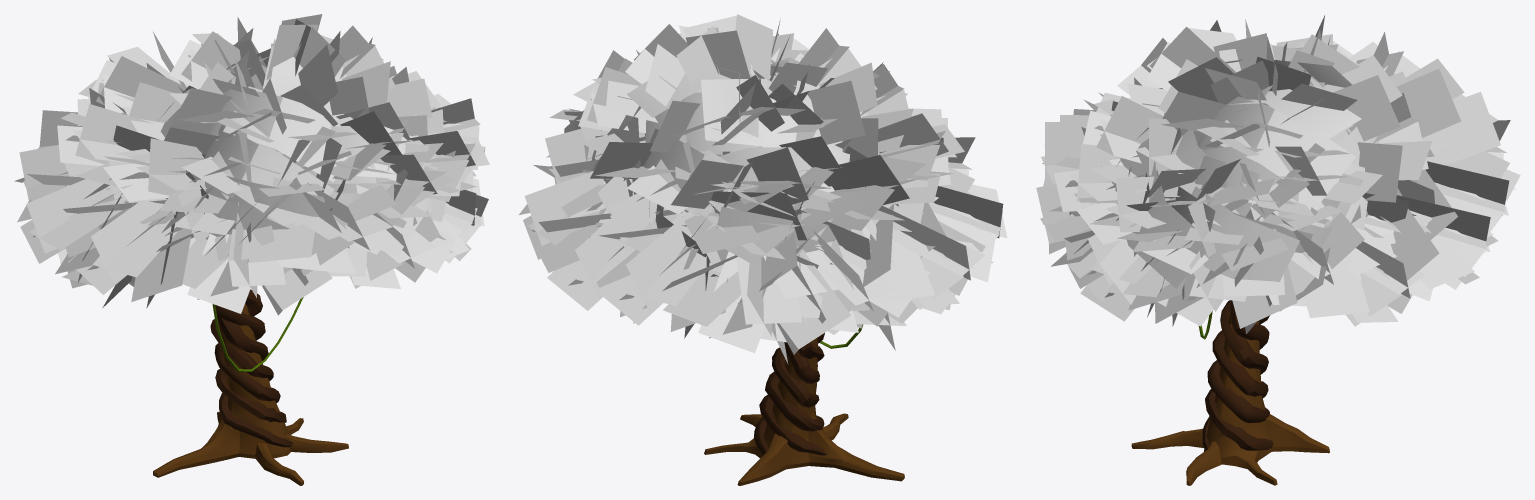
The model's file is MF_Dschungletree_2.FBX.
The picture shows the model from 3 angles, left to right: view 1: azimuth 30°, elevation 25°; view 2: azimuth 150°, elevation 25°; view 3: azimuth 270°, elevation 25°; orthographic projection. The views are drawn at different scales.
Visible parts, largest first — view 1: Leaves, Dschungletree_2, Vine; view 2: Leaves, Dschungletree_2; view 3: Leaves, Dschungletree_2.
Boxes of the visible parts, x1,y1,x2,y2 form: Leaves: (14, 14, 489, 315); Dschungletree_2: (153, 289, 348, 485); Vine: (212, 297, 303, 371); Leaves: (518, 14, 1007, 364); Dschungletree_2: (704, 333, 904, 485); Leaves: (1036, 15, 1520, 333); Dschungletree_2: (1131, 300, 1329, 485).
Bounding box in the file's own units: 16.35 × 15.39 × 15.24.
